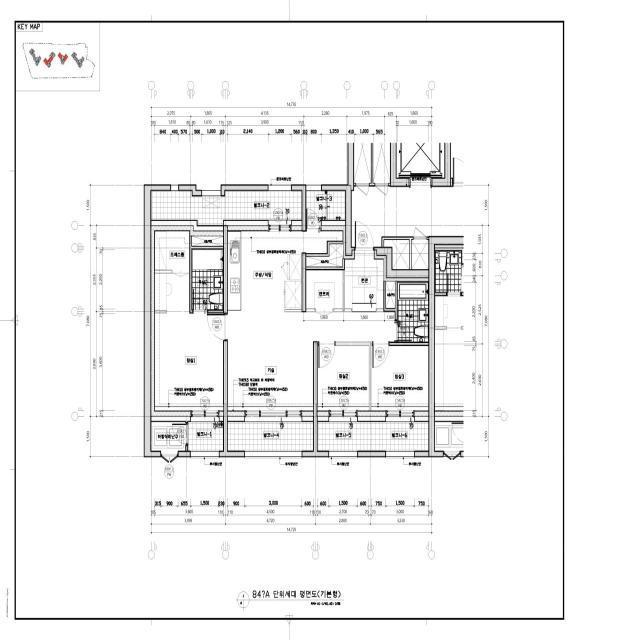space_balconi: (151, 191, 302, 225), (318, 422, 428, 451), (228, 422, 313, 451), (306, 191, 345, 228), (188, 422, 223, 451)
space_bedroom: (150, 313, 223, 411), (371, 346, 428, 411), (318, 346, 369, 411)
space_dressroom: (150, 226, 189, 310)
space_elevator_hall: (352, 186, 464, 247)
space_front: (345, 250, 384, 308)
space_kitchen: (228, 231, 346, 312)
space_living_room: (228, 312, 395, 411)
space_other: (306, 270, 343, 308), (151, 422, 185, 451), (306, 244, 343, 267), (192, 230, 223, 246), (386, 277, 395, 308)
space_toilet: (397, 277, 428, 342), (192, 249, 223, 310)
